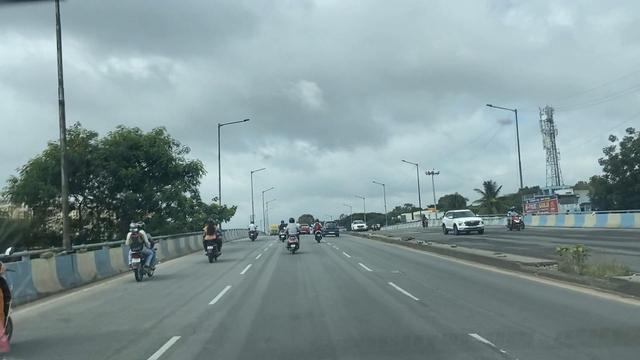LMV: (117, 219, 162, 286), (199, 213, 231, 268), (287, 217, 299, 254), (247, 220, 258, 243), (326, 221, 337, 242), (313, 219, 322, 243)
